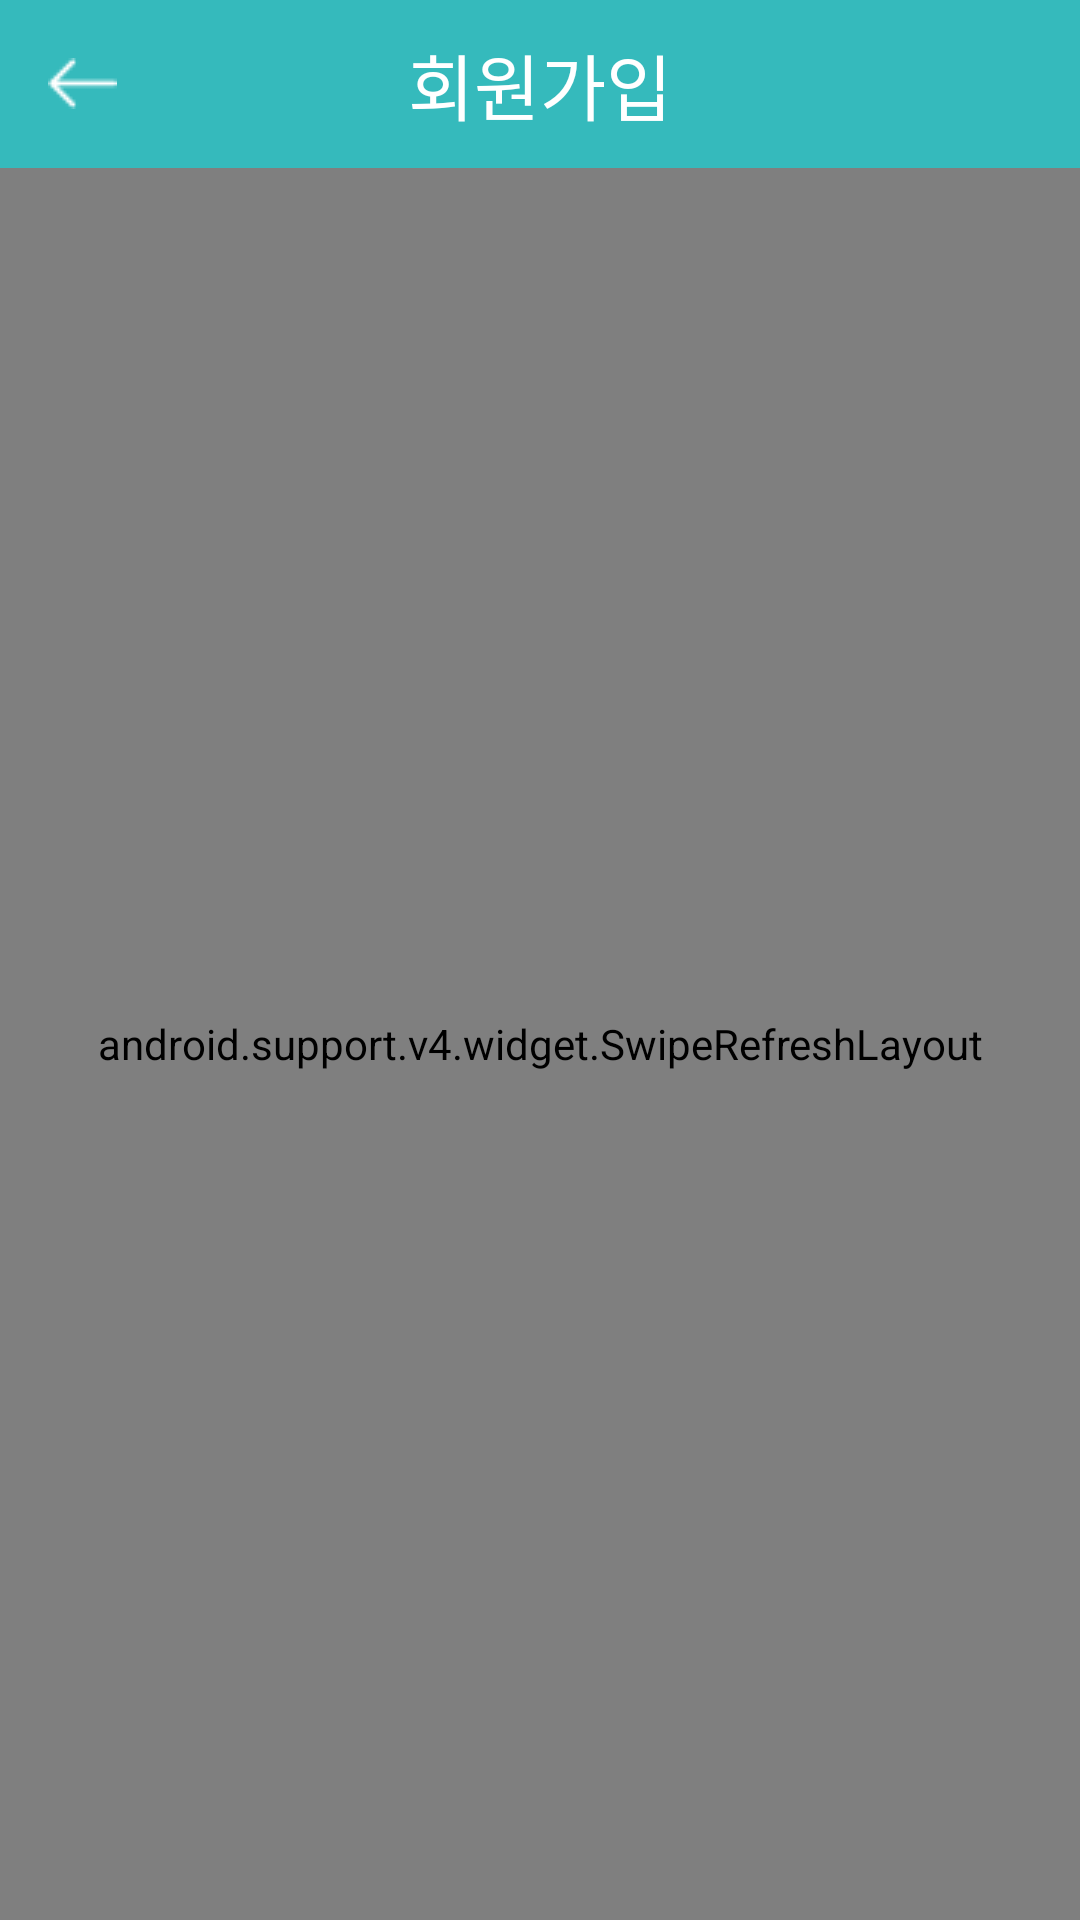

Where to tap for icons on this 1080 × 1920 app screen, as [x,y]:
left arrow: [82,83]
